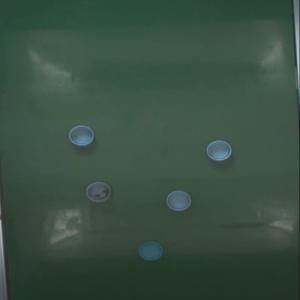light-blue: (69, 125, 94, 146), (206, 140, 232, 160), (166, 191, 191, 211), (86, 182, 111, 202), (138, 241, 162, 261)
